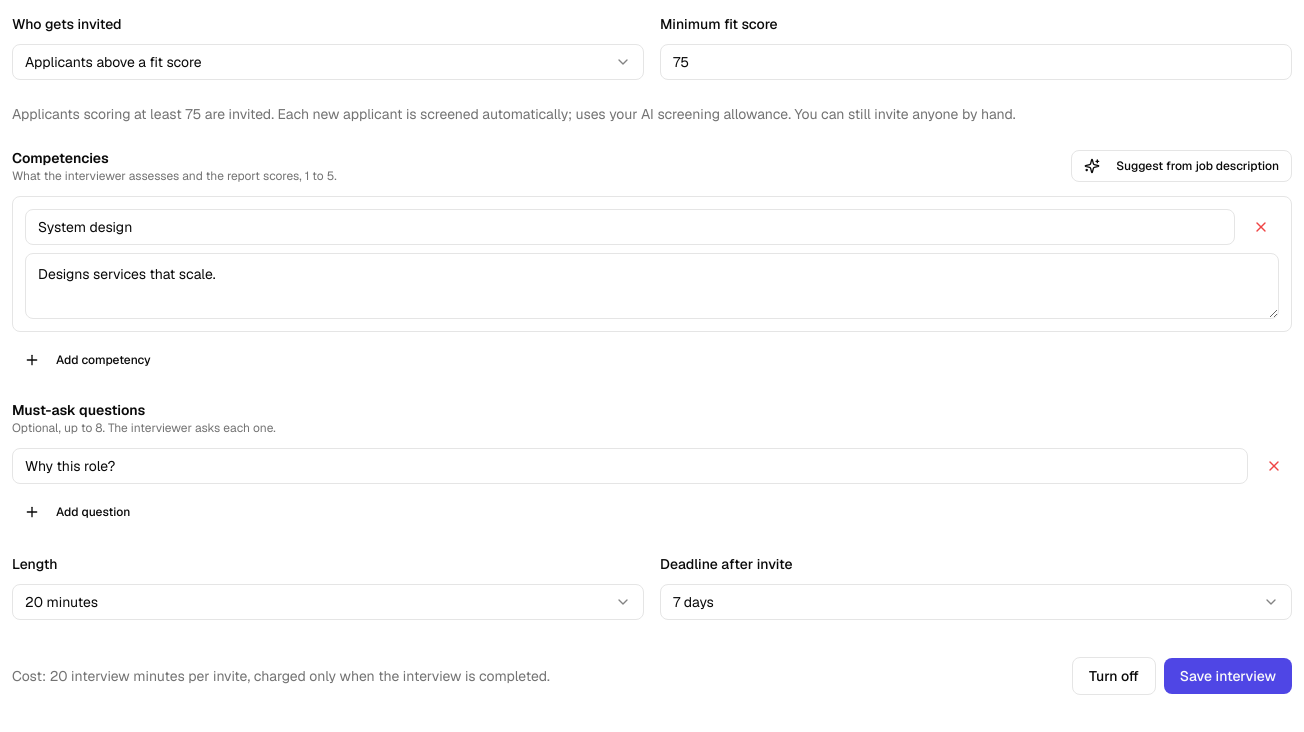
Test: InterviewConfigSection (SIT-060) › shows a fairness error on its field
Step 1. Click the button "Save interview" → (1228, 676), box [1164,658,1292,694]
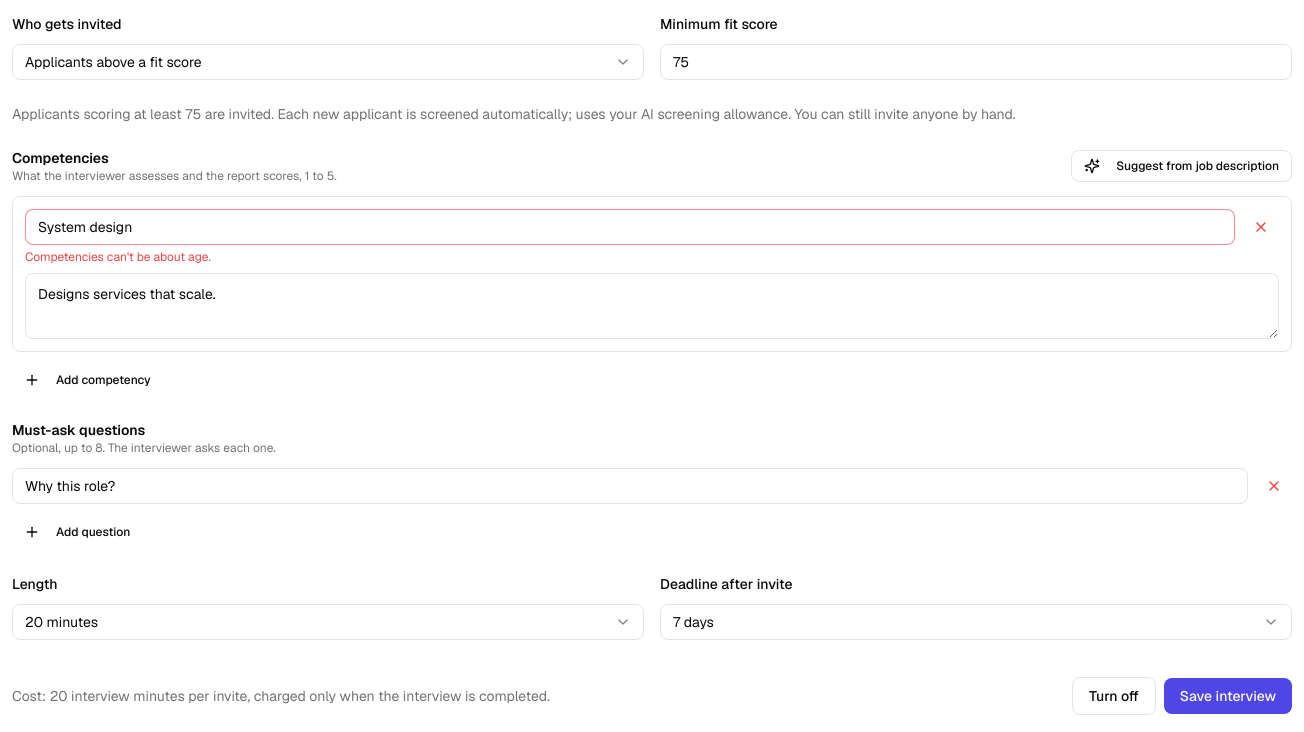
Expected: the text "Competencies can't be about age." is shown, [25,249,211,265]
